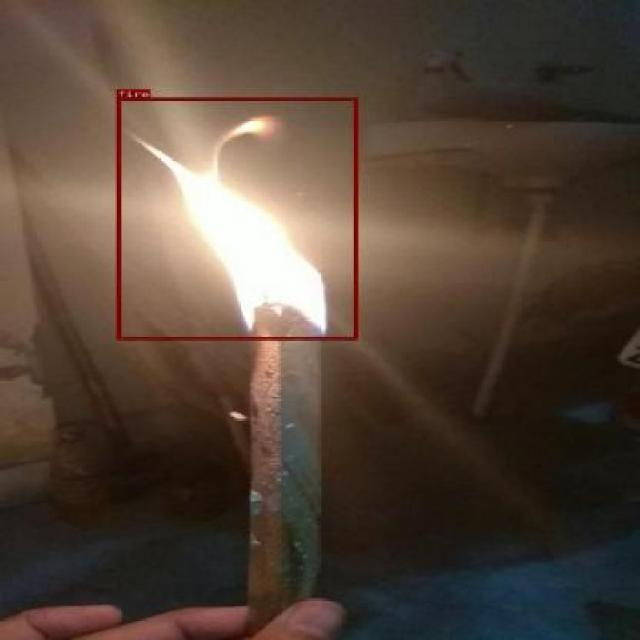Fire: (116, 96, 357, 338)
